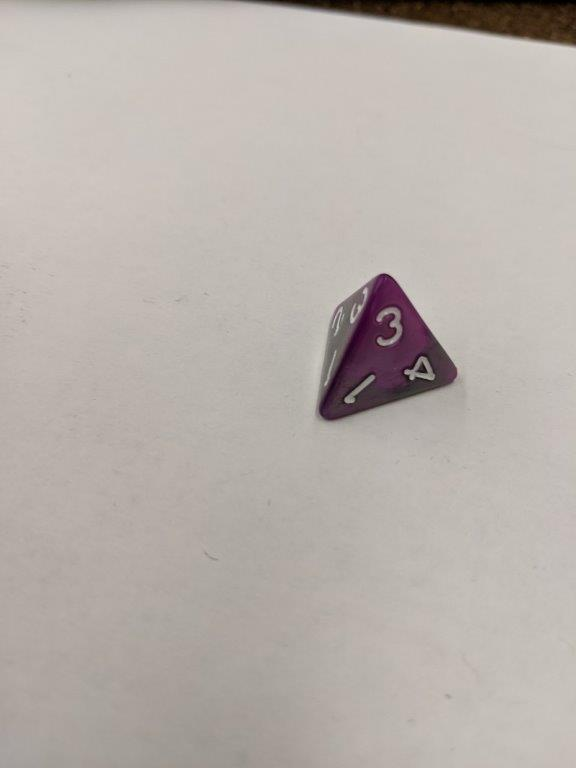d4-3: (315, 273, 462, 423)
